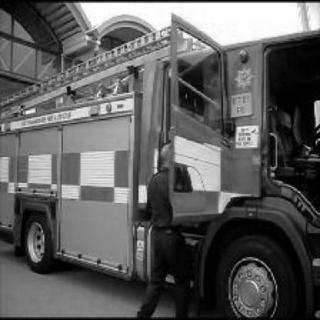other: (169, 37, 243, 207), (0, 141, 120, 203)
